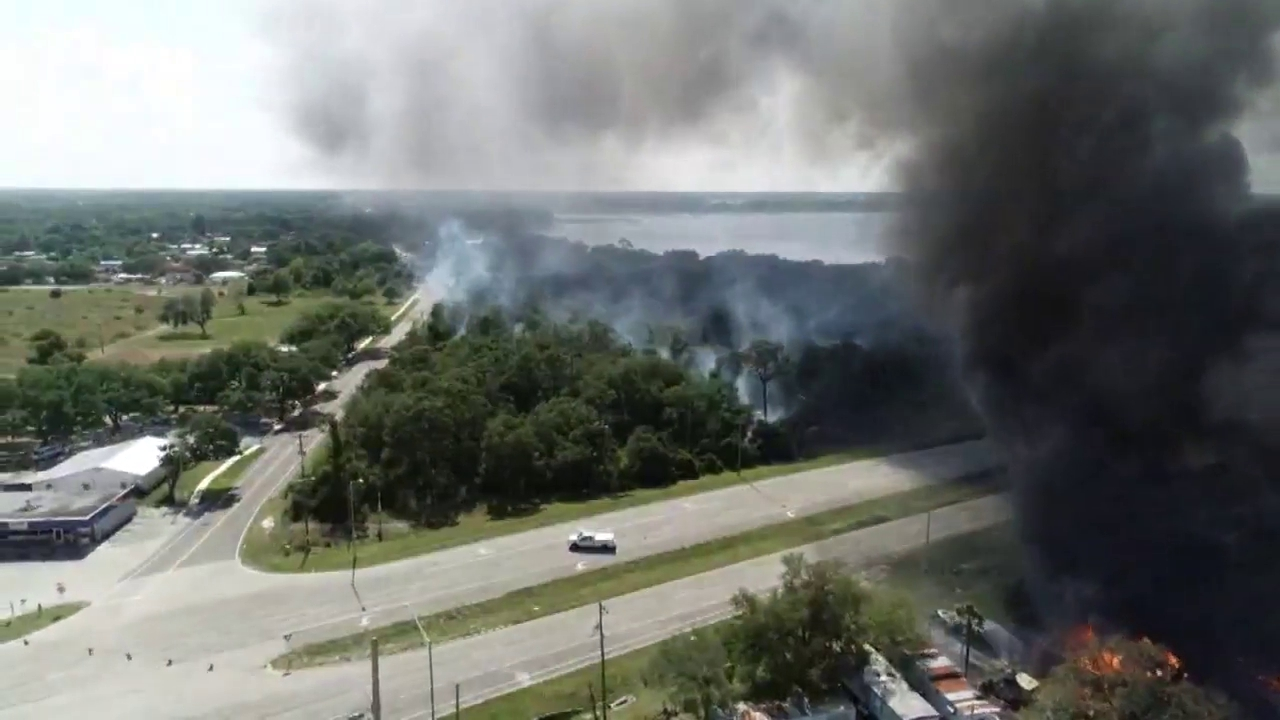forest_fire: (1089, 650, 1121, 672), (1163, 650, 1180, 669)
